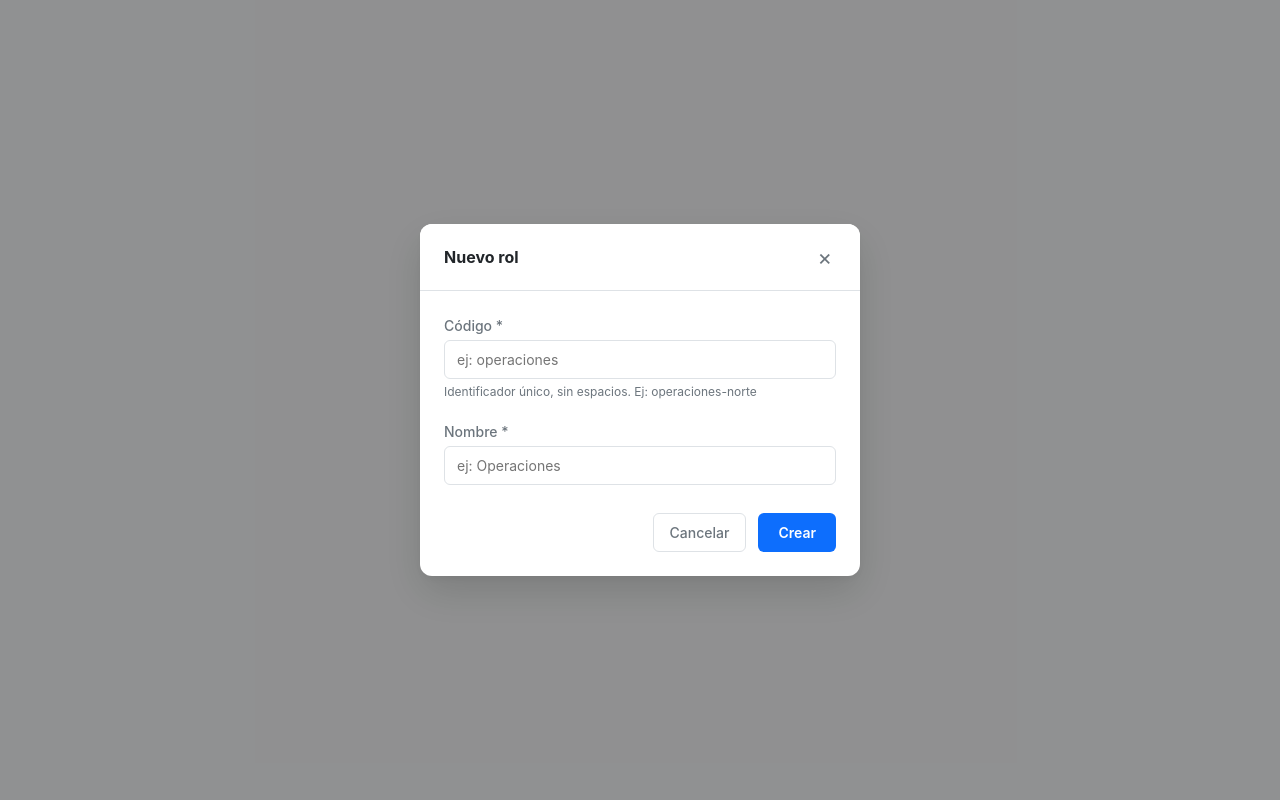
it: NewRoleModal › shows inline error on 409 ROLE_CODE_TAKEN
Type "admin" into the field labelled "Código *" at [640, 360], box [444,340,836,379]
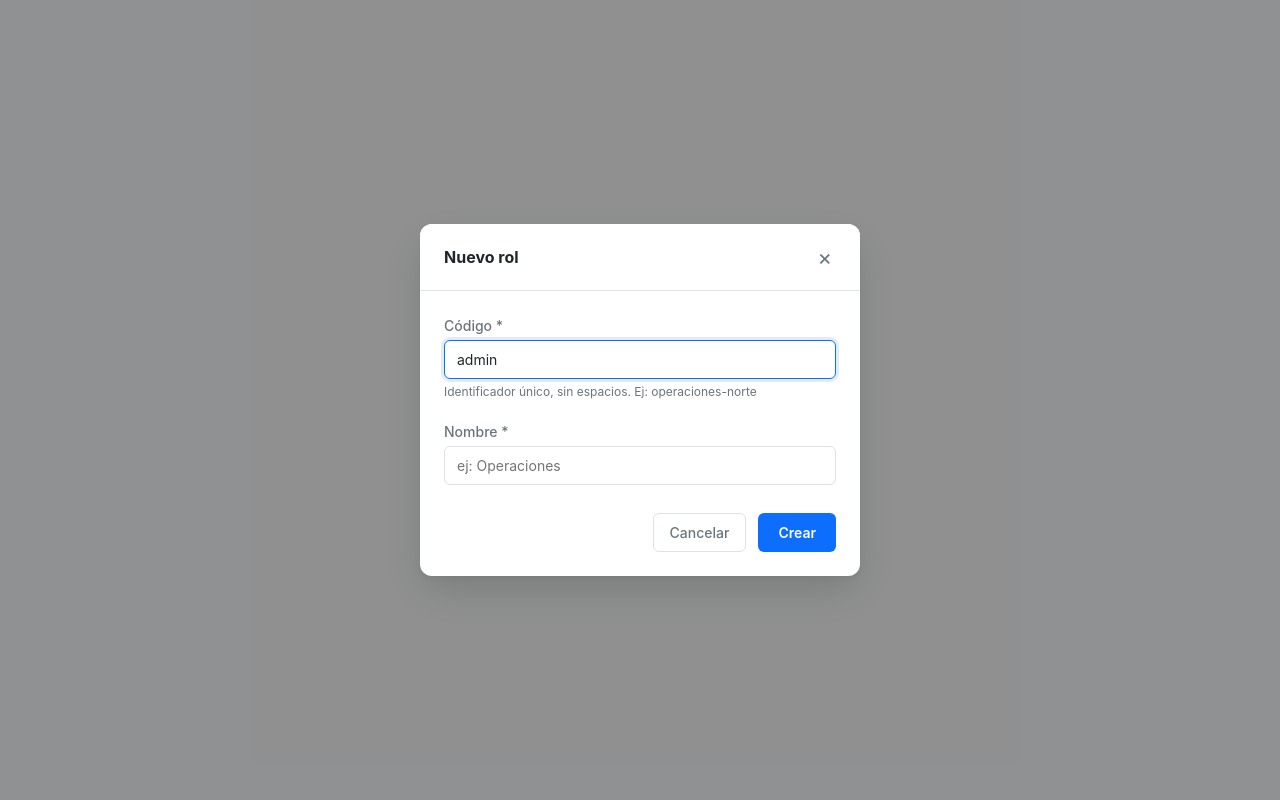
Type "Admin" into the field labelled "Nombre *" at [640, 466], box [444,446,836,485]
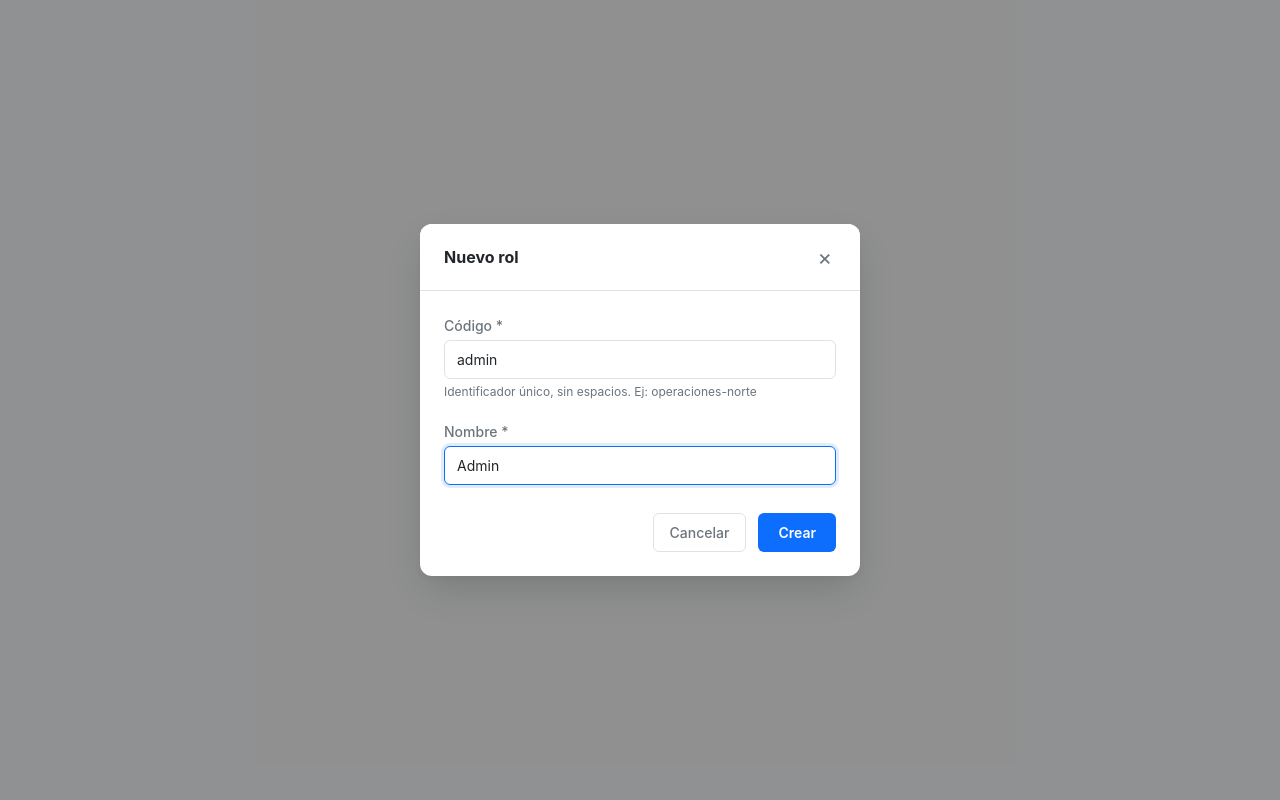
Click the button "Crear" at [797, 532], box [758,513,836,552]
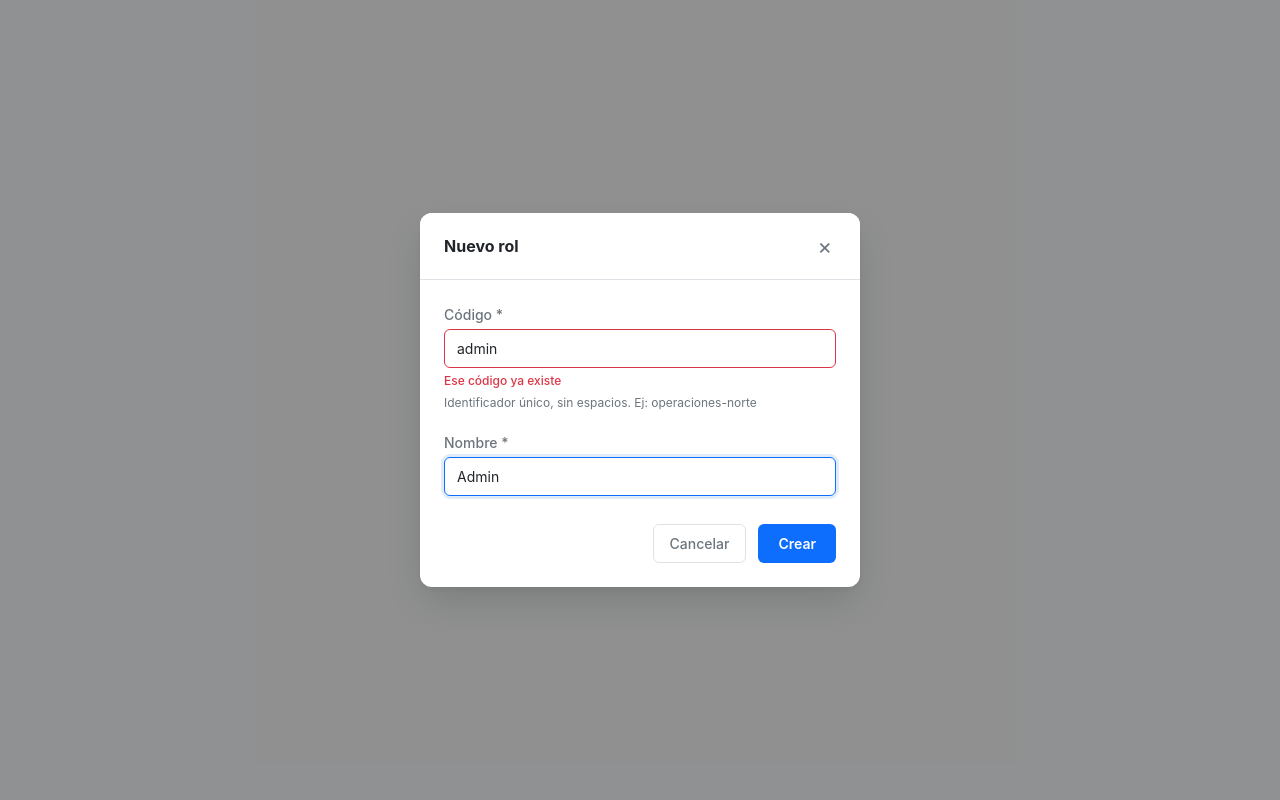
Result: the text "Ese código ya existe" is shown at [444,373,561,388]
